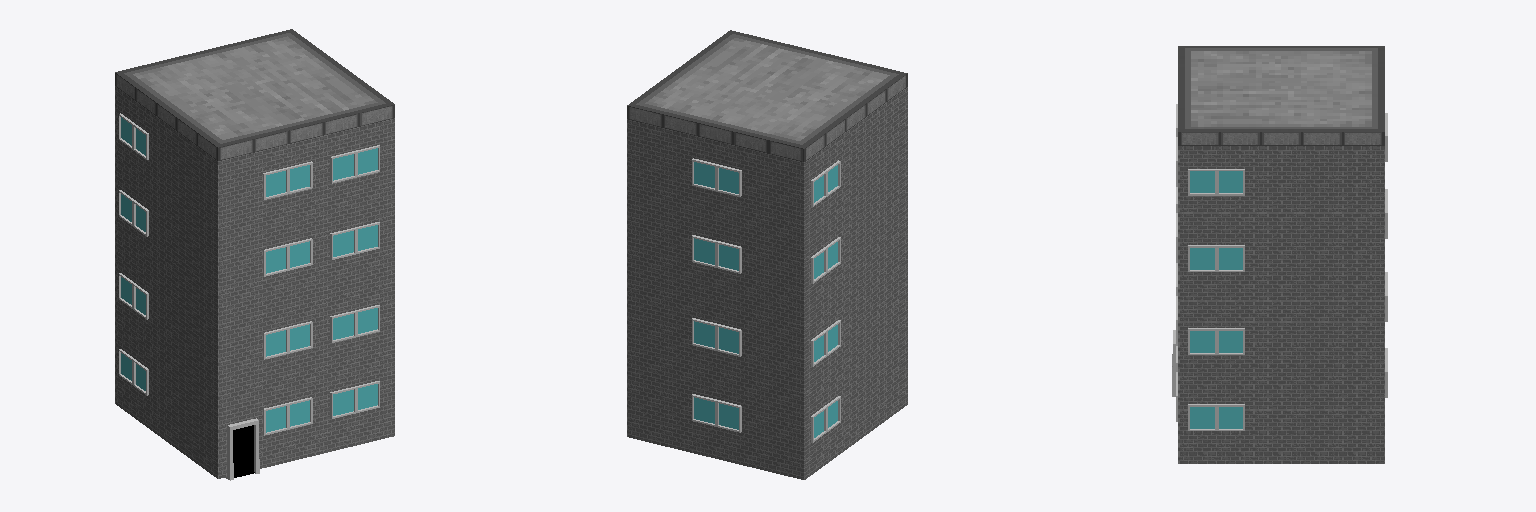
The picture shows the model from 3 angles: view 1: azimuth 30°, elevation 25°; view 2: azimuth 150°, elevation 25°; view 3: azimuth 270°, elevation 25°; orthographic projection.
Visible parts, largest first — view 1: building_2; view 2: building_2; view 3: building_2.
Boxes of the visible parts, <box> form: building_2: <box>115,29,394,480</box>; building_2: <box>627,30,907,479</box>; building_2: <box>1172,46,1387,463</box>.
Size of the model in its own units: 10.2 by 17.88 by 10.49.
5 materials, 2 textured.